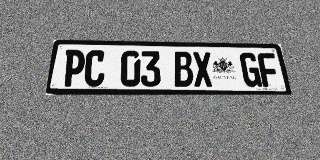0: (120, 51, 140, 87)
3: (141, 51, 160, 87)
B: (173, 51, 194, 87)
C: (83, 50, 106, 87)
F: (257, 53, 281, 87)
G: (239, 52, 262, 87)
P: (61, 50, 86, 87)
X: (192, 52, 213, 87)
